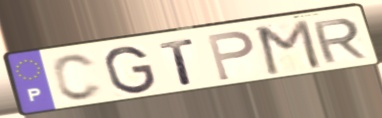C: (50, 52, 106, 103)
G: (103, 45, 159, 96)
M: (255, 17, 324, 77)
P: (204, 29, 257, 83)
R: (309, 16, 370, 65)
T: (156, 37, 197, 86)
